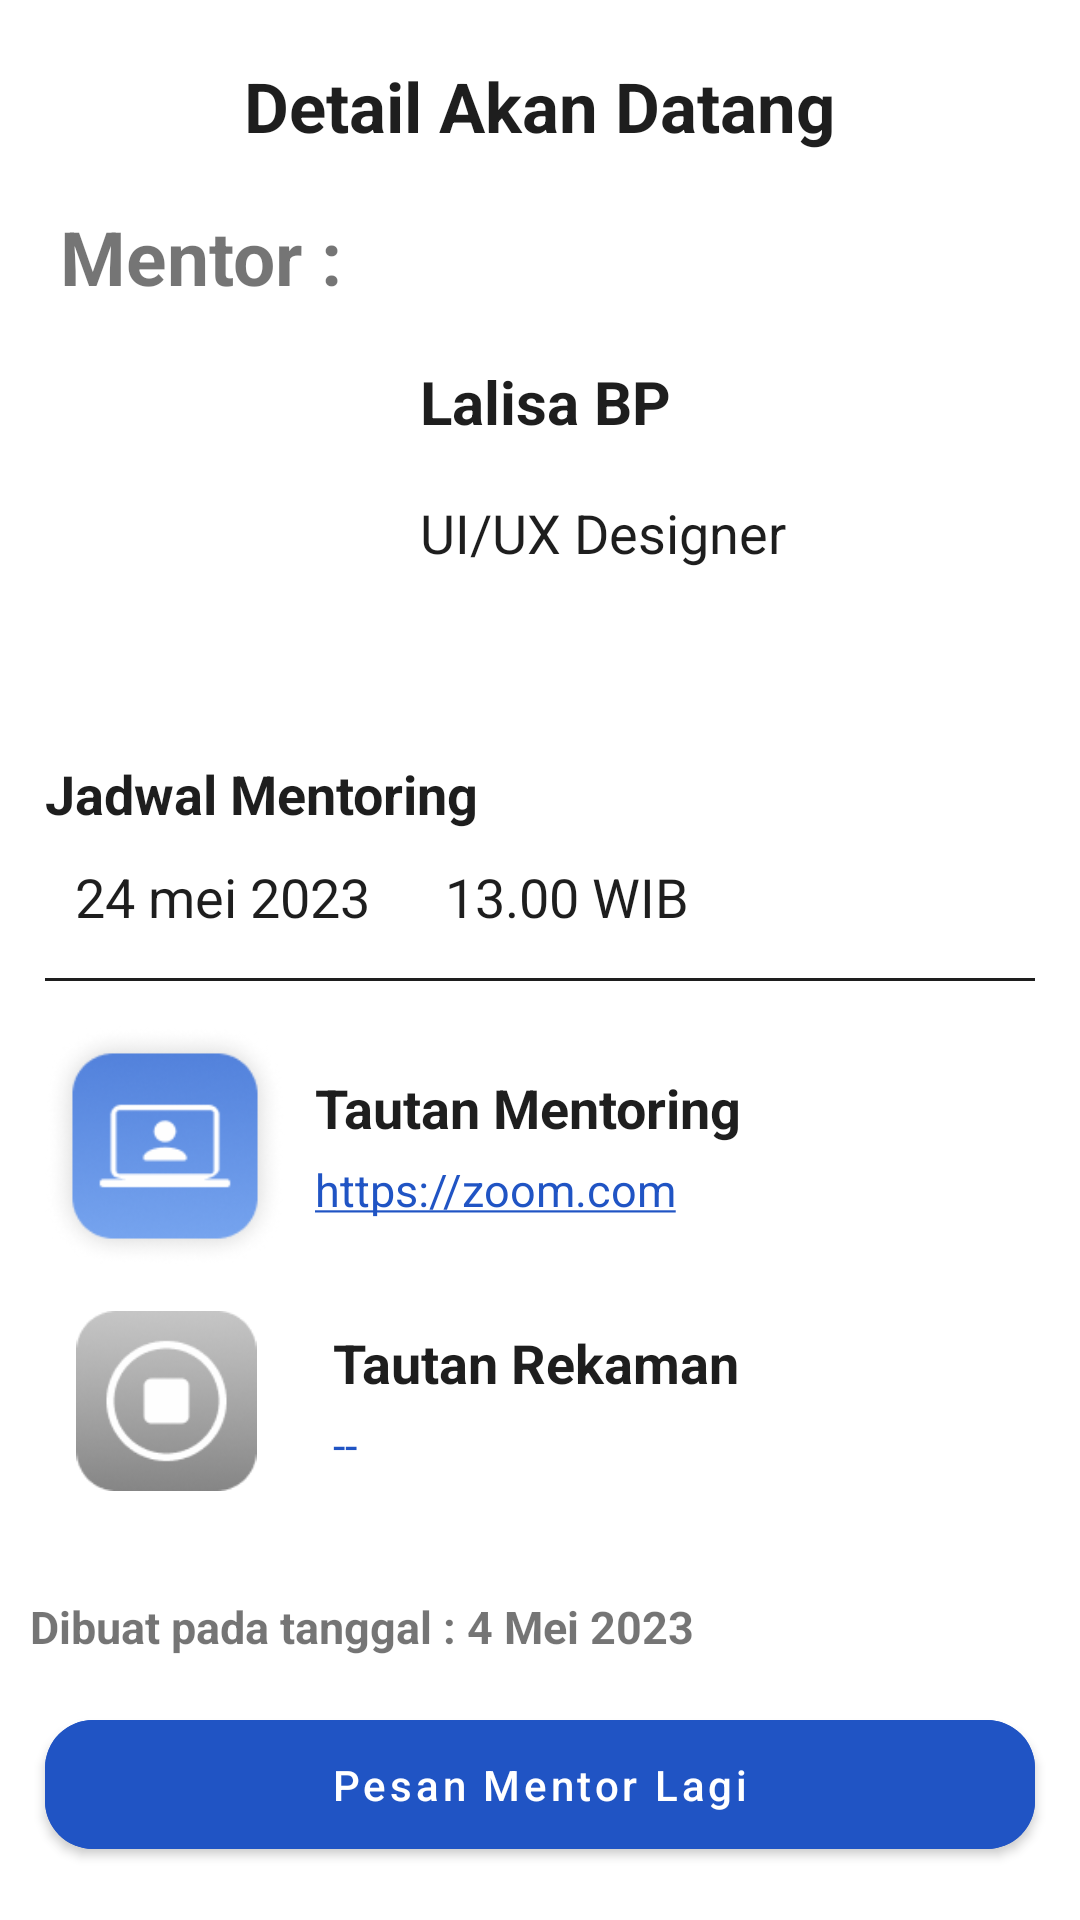

Screen size 1080w x 1920h. Icon name, then its center in pixels as (x=x, y=y):
record zoom: (x=166, y=1401)
